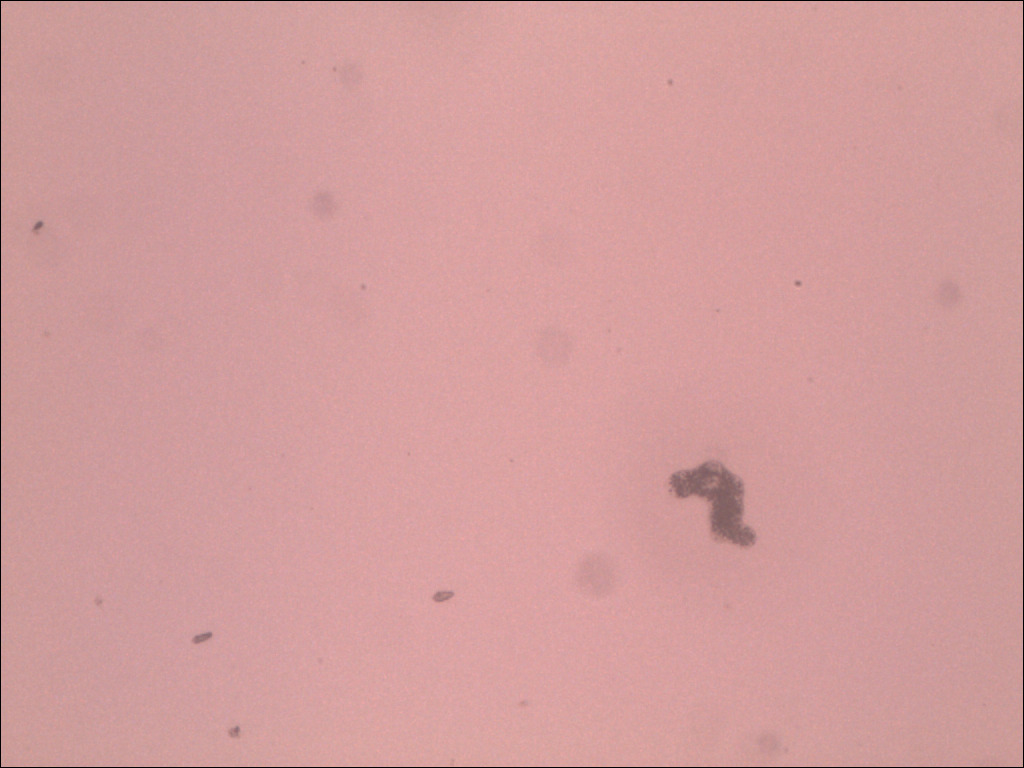amoeba: (661, 452, 771, 553)
